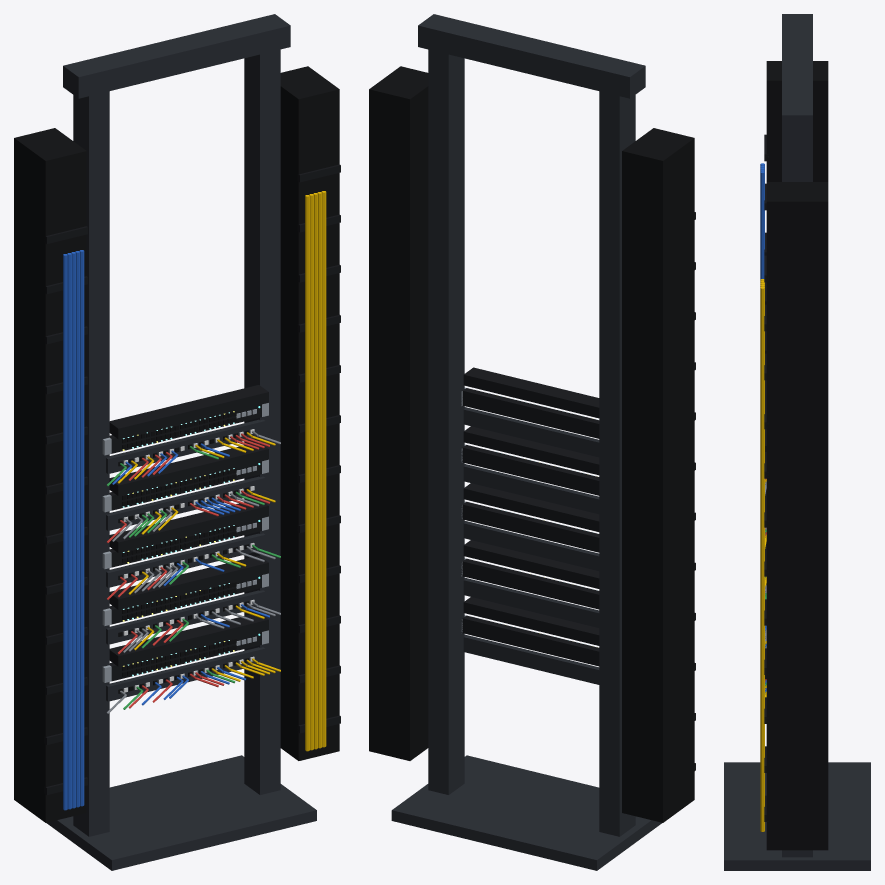
Rendered from 05_Rack_2Post_Network_Open.fbx.
The picture shows the model from 3 angles, left to right: view 1: azimuth 30°, elevation 25°; view 2: azimuth 150°, elevation 25°; view 3: azimuth 270°, elevation 25°; orthographic projection. The views are drawn at different scales.
Visible parts, largest first — view 1: 05_Rack_2Post_Network_Open; view 2: 05_Rack_2Post_Network_Open; view 3: 05_Rack_2Post_Network_Open.
Boxes of the visible parts, x1,y1,x2,y2 form: 05_Rack_2Post_Network_Open: (14, 14, 340, 870); 05_Rack_2Post_Network_Open: (369, 14, 695, 870); 05_Rack_2Post_Network_Open: (724, 14, 870, 870).
Bounding box in the file's own units: 0.86 × 2.16 × 0.38.
